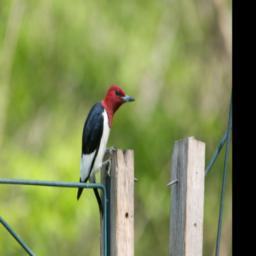Woodpecker: (76, 84, 135, 201)
